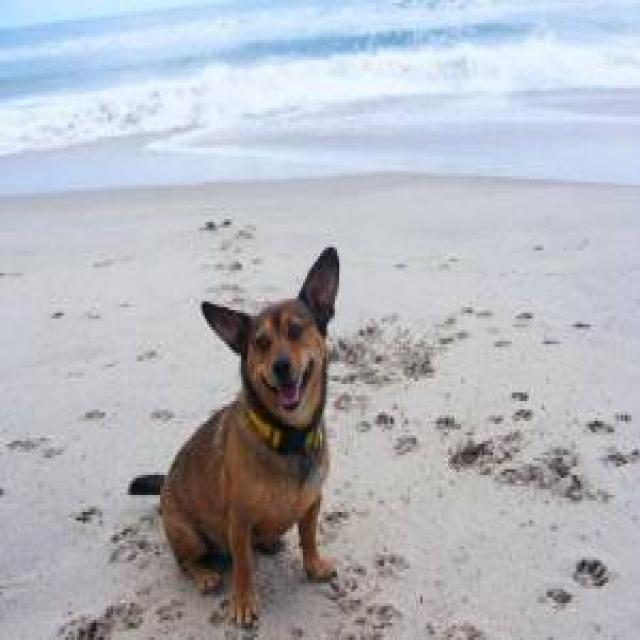dog-chihuahua: (124, 236, 346, 626)
